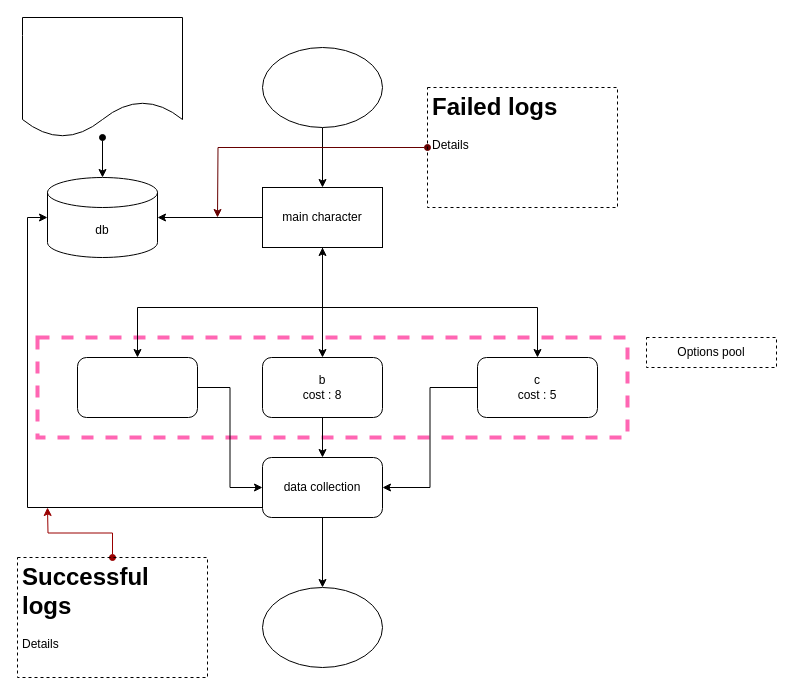
The diagram is 794 pixels wide and 695 high, and some of its shapes have lost their labels. Here are the shapes that lost their labels. From the top down, the centre of each, then its label:
the point at 102,77: analyses the data for day
the point at 322,87: incoming request
the point at 137,387: a cost : 10
the point at 322,627: happy client
